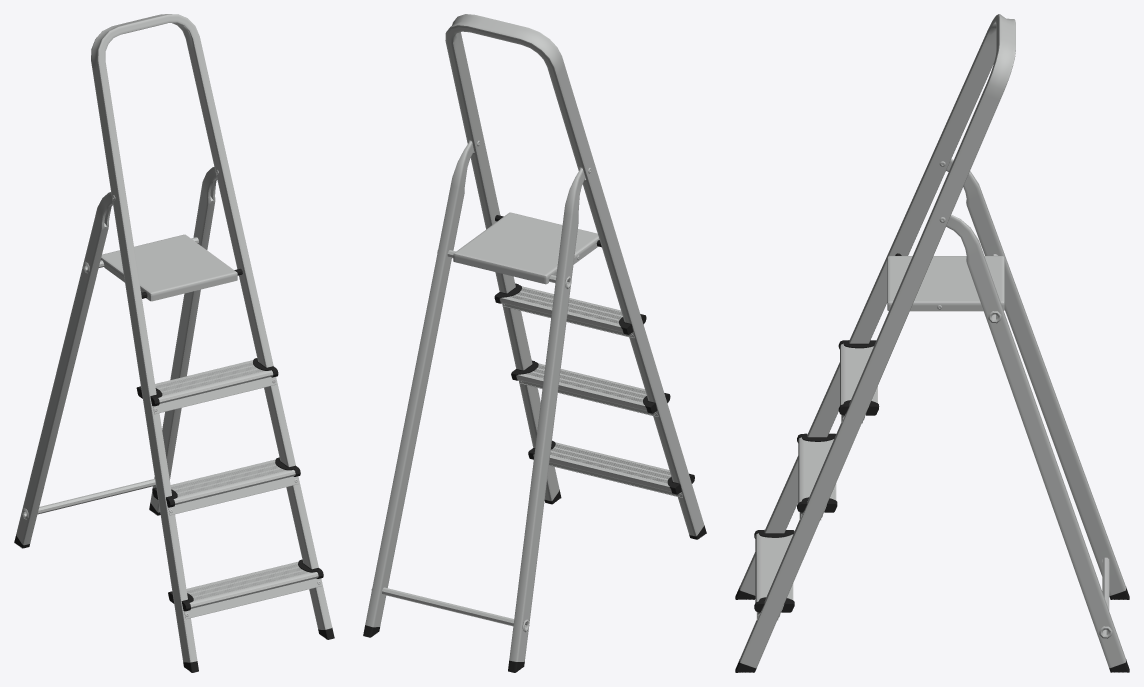
3 renders of one model, left to right at view 1: azimuth 30°, elevation 25°; view 2: azimuth 150°, elevation 25°; view 3: azimuth 270°, elevation 25°, orthographic. The views are drawn at different scales.
Parts seen in each view (by area): view 1: Ladder; view 2: Ladder; view 3: Ladder.
Part boxes in pixels (<box>): Ladder: <box>14,14,334,672</box>; Ladder: <box>363,14,706,672</box>; Ladder: <box>735,14,1129,672</box>.
Bounding box in the file's own units: 0.3762 × 1.37 × 0.8127.
Materials: 1 (1 with a texture image).
